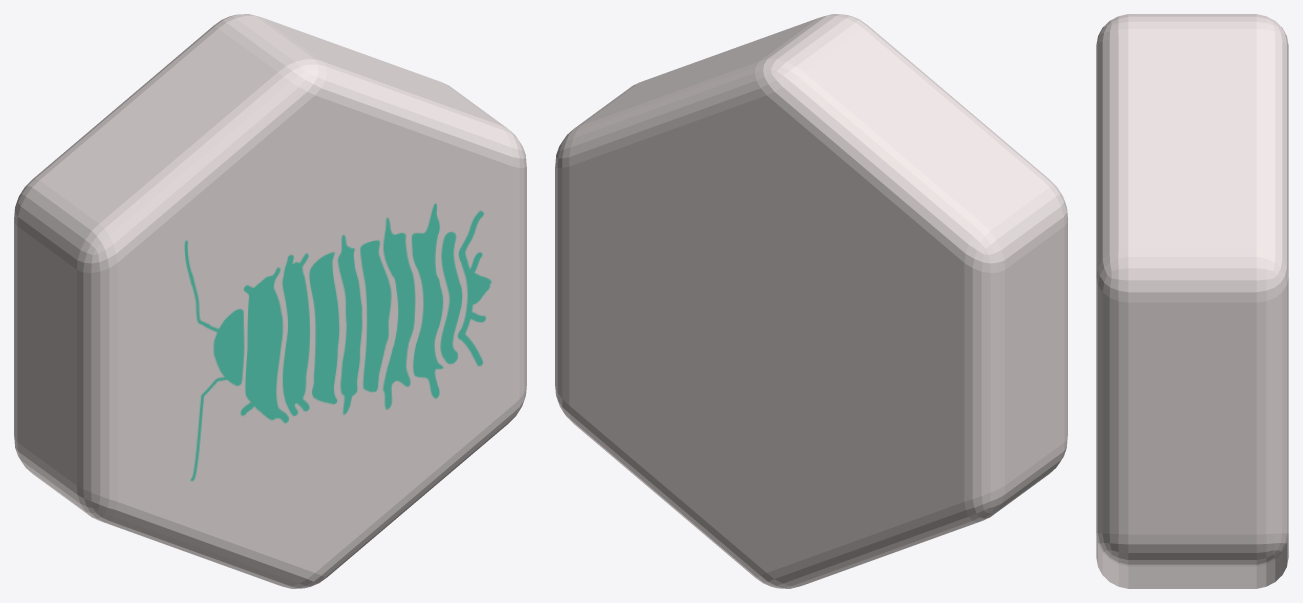
3 renders of one model, left to right at view 1: azimuth 30°, elevation 25°; view 2: azimuth 150°, elevation 25°; view 3: azimuth 270°, elevation 25°, orthographic. The views are drawn at different scales.
Visible parts, largest first — view 1: wP; view 2: wP; view 3: wP.
Boxes of the visible parts, x1,y1,x2,y2 form: wP: [14, 14, 526, 588]; wP: [555, 14, 1067, 588]; wP: [1096, 14, 1288, 588].
Size of the model in its own units: 0.0866 by 0.0973 by 0.03.
Materials: 1 (1 with a texture image).
